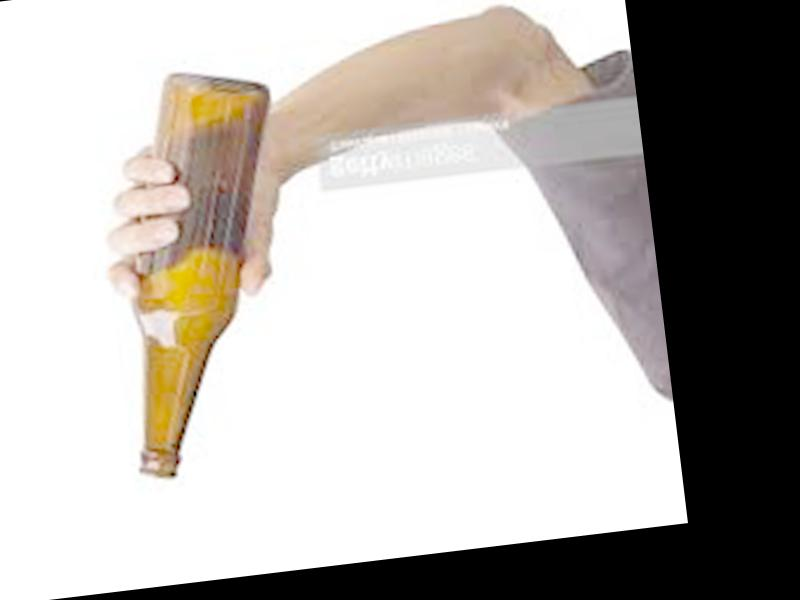Beer: (93, 64, 317, 480)
